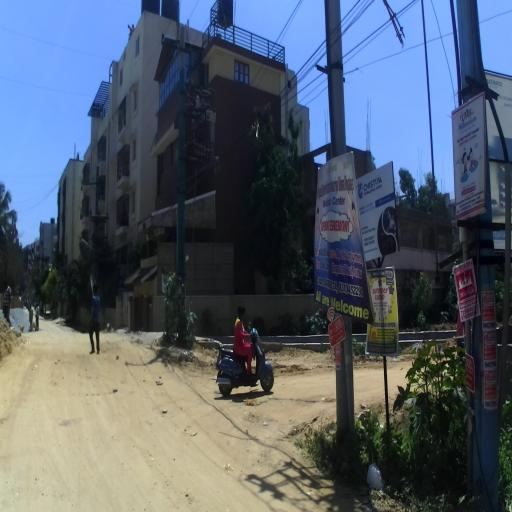street_light_0: (81, 239, 96, 252)
